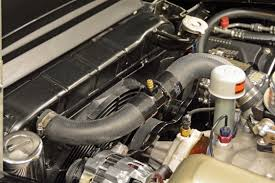radiator_hose: (45, 52, 265, 145)
